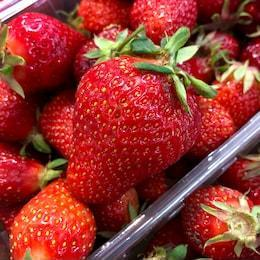Fresa: (63, 52, 201, 211), (1, 8, 98, 100), (5, 174, 101, 260), (182, 179, 260, 260)
